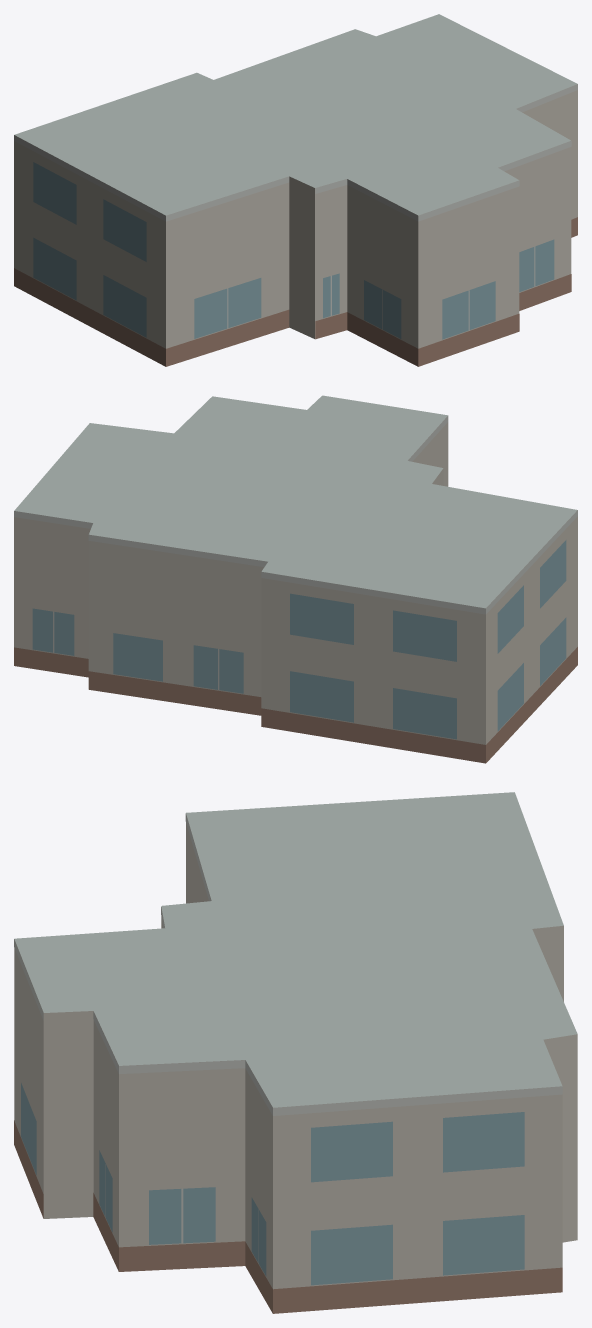
File: survey-upis-32893208.glb
3 views of the same model, one above another, from view 1: azimuth 30°, elevation 25°; view 2: azimuth 150°, elevation 25°; view 3: azimuth 270°, elevation 25° (orthographic). The views are drawn at different scales.
Parts seen in each view (by area): view 1: survey-upis-32893208.tmp; view 2: survey-upis-32893208.tmp; view 3: survey-upis-32893208.tmp.
Boxes of the visible parts, <box> form: survey-upis-32893208.tmp: <box>14,14,577,366</box>; survey-upis-32893208.tmp: <box>14,395,577,763</box>; survey-upis-32893208.tmp: <box>14,792,577,1313</box>.
Bounding box in the file's own units: 20.06 × 6.1 × 15.14.
